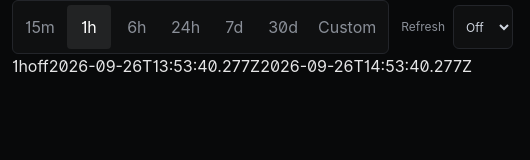
Test: admin time range preferences › persists selected range and refresh interval without losing the active values
Click the button "24h".
click(186, 27)  # box [163,5,208,49]
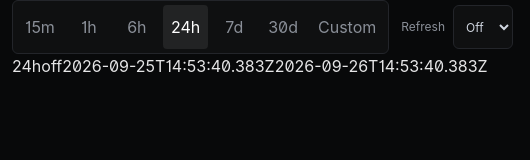
Select "30s" in the dropdown labelled "Refresh" at x=483, y=27, box [453,5,513,49]
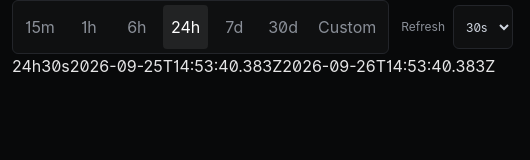
Expected: the button "24h" is shown, [163,5,208,49]
Expected: the text with test id "range" reads "24h", [12,56,41,76]
Expected: the text with test id "refresh" reads "30s", [41,56,70,76]
